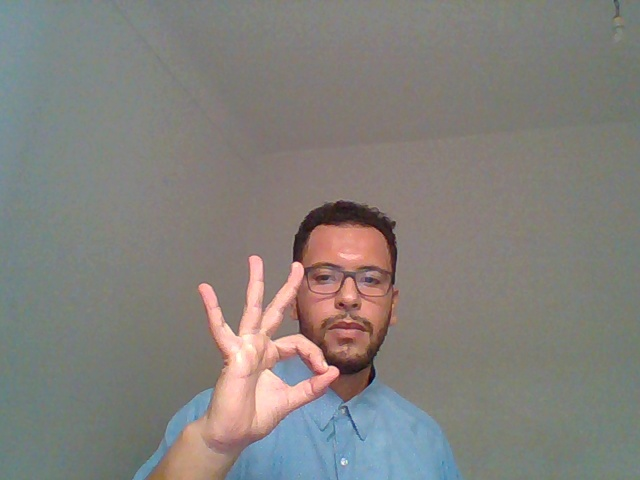okay: (159, 234, 336, 466)
